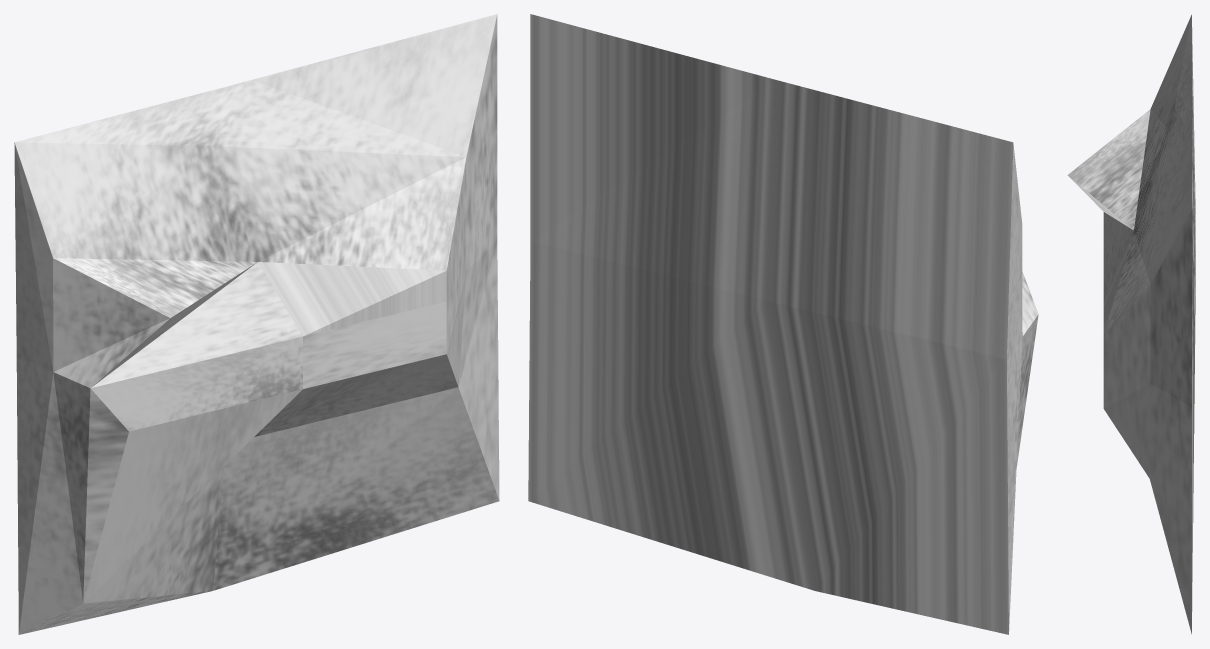
Rendered from snowmound4x4_wtf.obj.
3 renders of one model, left to right at view 1: azimuth 30°, elevation 25°; view 2: azimuth 150°, elevation 25°; view 3: azimuth 270°, elevation 25°, orthographic. The views are drawn at different scales.
Visible parts, largest first — view 1: group2; view 2: group2; view 3: group2.
Boxes of the visible parts, x1,y1,x2,y2 form: group2: (14, 14, 499, 634); group2: (528, 14, 1038, 634); group2: (1067, 14, 1195, 634).
Bounding box in the file's own units: 660 × 660 × 174.
